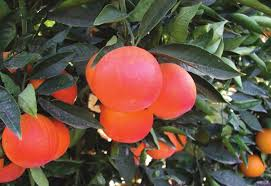orange: (86, 47, 163, 110), (3, 112, 57, 163)
